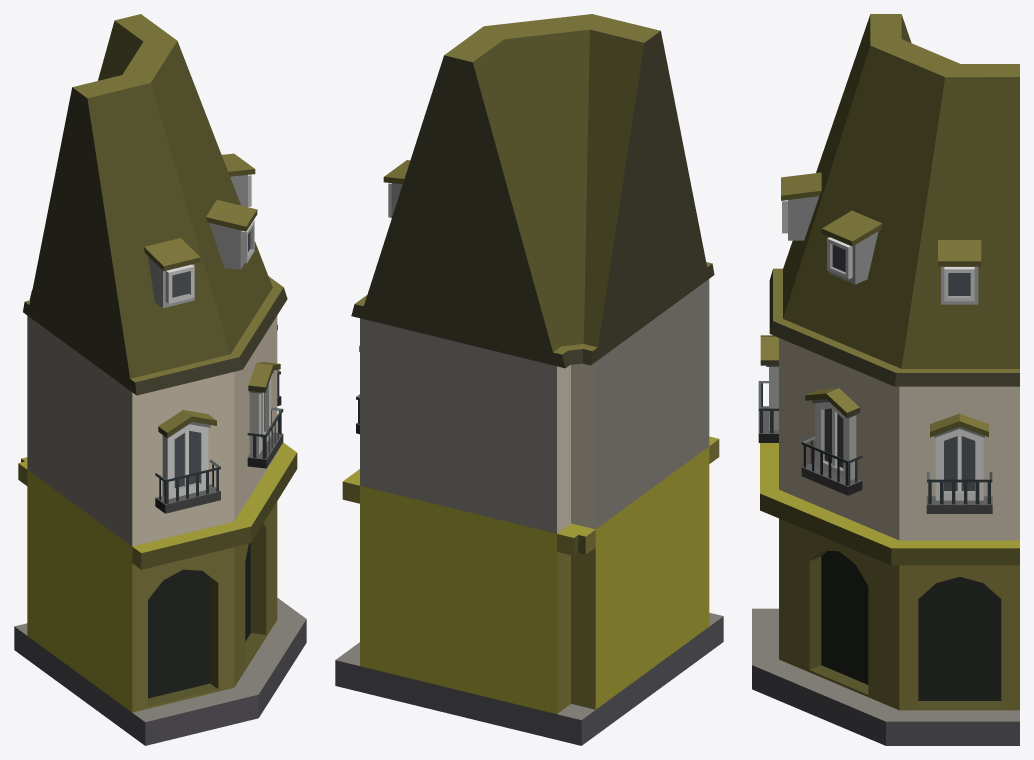
The model's file is TB_CITY_BD_Olive_RCorner.FBX.
3 views of the same model, side by side, from view 1: azimuth 30°, elevation 25°; view 2: azimuth 150°, elevation 25°; view 3: azimuth 270°, elevation 25° (orthographic). The views are drawn at different scales.
Visible parts, largest first — view 1: TB_CITY_BD_Olive_RCorner; view 2: TB_CITY_BD_Olive_RCorner; view 3: TB_CITY_BD_Olive_RCorner.
Boxes of the visible parts, box(x1,y1,x2,y2) form: TB_CITY_BD_Olive_RCorner: box(14, 14, 306, 745); TB_CITY_BD_Olive_RCorner: box(335, 14, 723, 745); TB_CITY_BD_Olive_RCorner: box(752, 14, 1019, 745).
Size of the model in its own units: 7.99 by 20.37 by 7.99.
